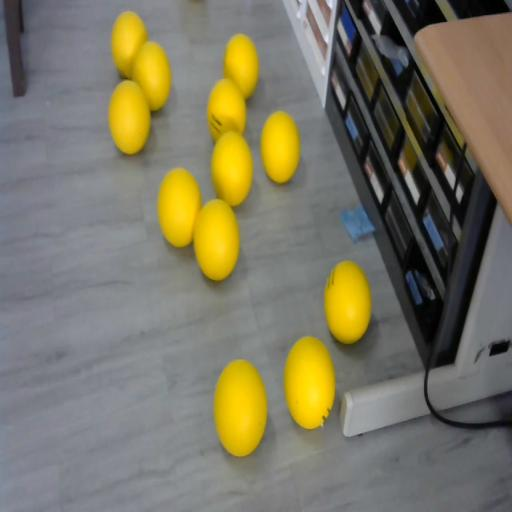FUEL: (212, 358, 268, 456), (283, 334, 336, 429), (323, 258, 372, 344), (192, 196, 240, 281), (156, 166, 202, 246), (210, 130, 254, 206), (108, 80, 151, 155), (260, 110, 300, 183), (110, 11, 148, 79), (224, 34, 260, 98)
